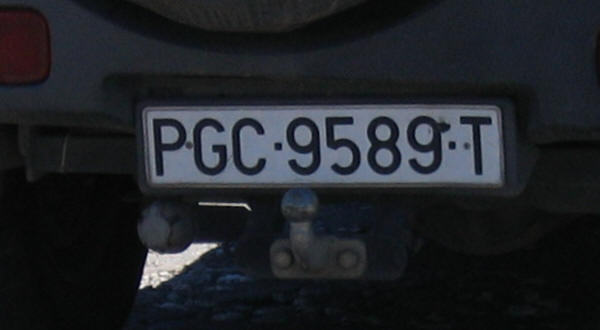license_plate: (144, 104, 505, 185)
